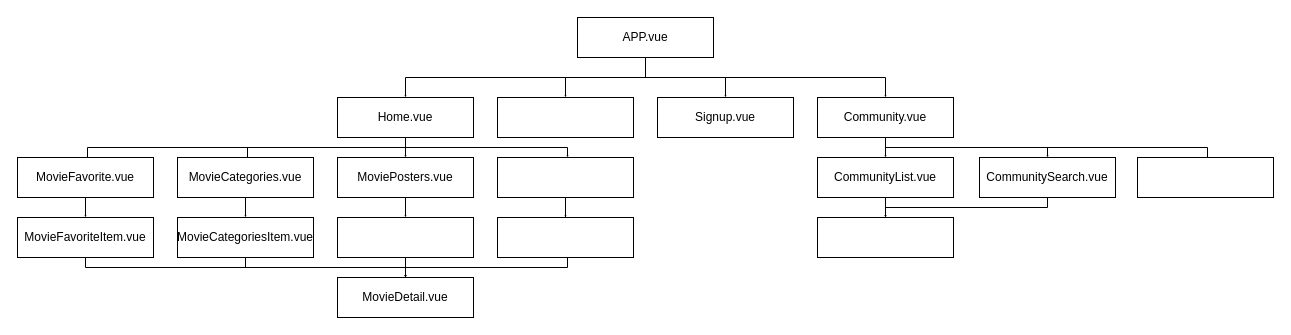
This 1291x335 diagram has some shape labels left out. Here are the shapes that lost their labels. From the top down, the centre of each, then its label:
At point (565, 117): "Login.vue".
At point (565, 177): "MovieSearch.vue".
At point (1205, 177): "CreateCommunity.vue".
At point (405, 237): "MoviePostersItem.vue".
At point (565, 237): "MovieSearchList.vue".
At point (885, 237): "CommunityDetail.vue".
